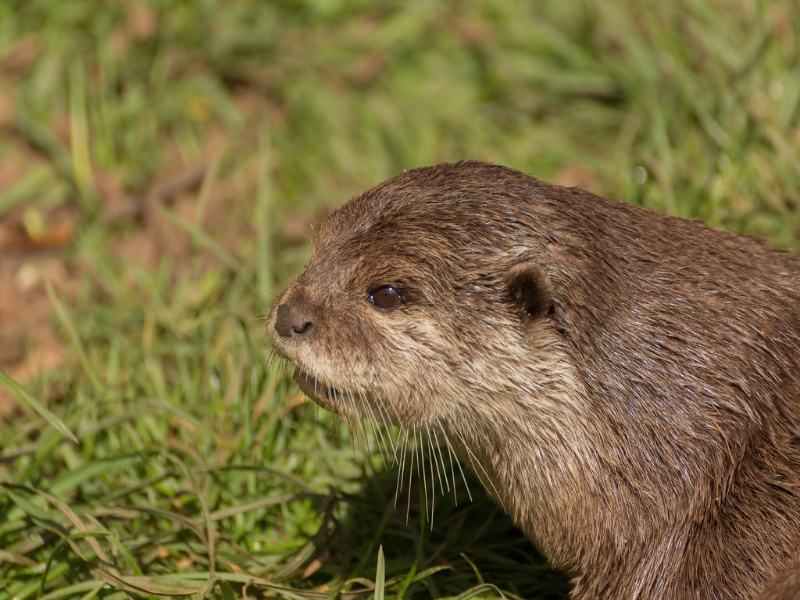minkish: (266, 151, 767, 562)
